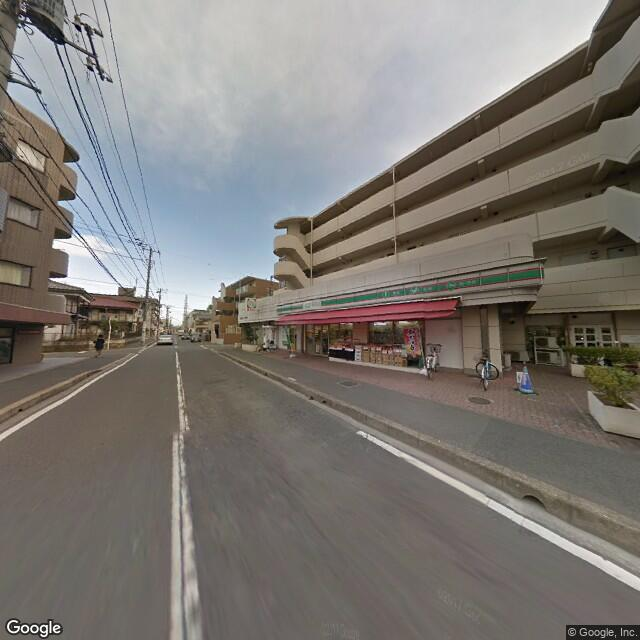lawson: (275, 259, 544, 321)
